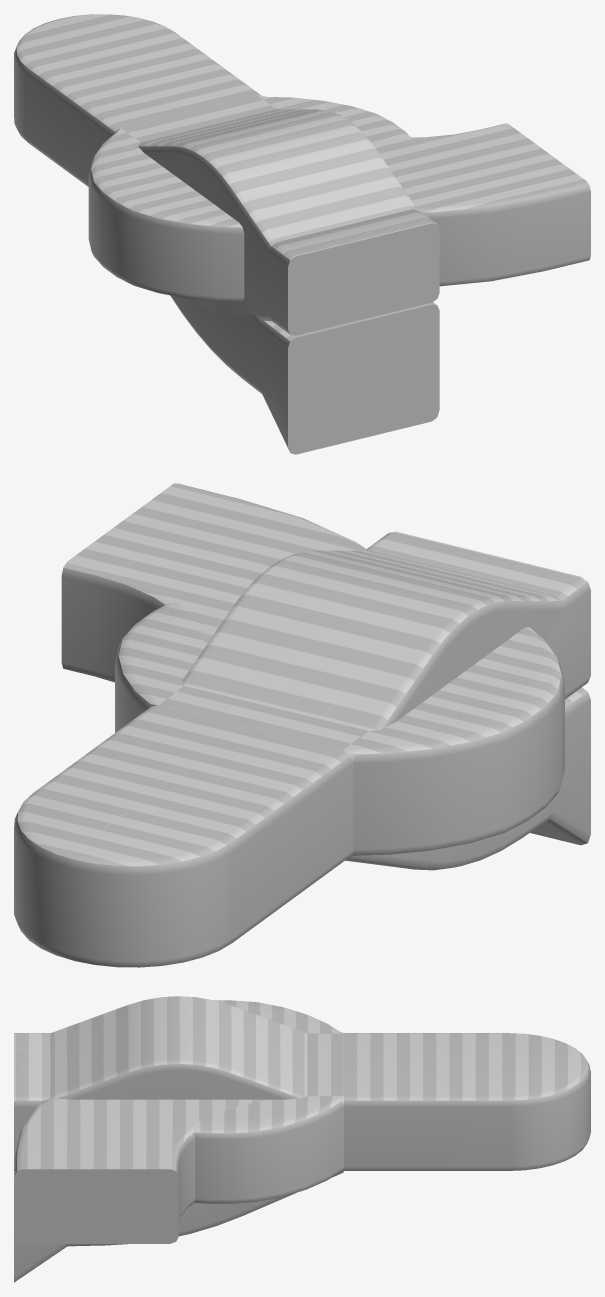
Rendered from Floor_2x2_BothSoft_thick.fbx.
3 renders of one model, top to bottom at view 1: azimuth 30°, elevation 25°; view 2: azimuth 150°, elevation 25°; view 3: azimuth 270°, elevation 25°, orthographic. The views are drawn at different scales.
Visible parts, largest first — view 1: Floor_2x2_BS_T_hill, Floor_2x2_BS_T_rotate, Floor_2x2_BS_T_cap, Floor_2x2_BS_T_circle, Floor_2x2_BS_T_ramp2, Floor_2x2_BS_T_deep1, Floor_2x2_BS_T_deep2, Floor_2x2_BS_T_ramp1; view 2: Floor_2x2_BS_T_cap, Floor_2x2_BS_T_hill, Floor_2x2_BS_T_circle, Floor_2x2_BS_T_rotate, Floor_2x2_BS_T_deep2, Floor_2x2_BS_T_ramp2, Floor_2x2_BS_T_ramp1, Floor_2x2_BS_T_deep1; view 3: Floor_2x2_BS_T_cap, Floor_2x2_BS_T_rotate, Floor_2x2_BS_T_hill, Floor_2x2_BS_T_circle, Floor_2x2_BS_T_deep2, Floor_2x2_BS_T_ramp2, Floor_2x2_BS_T_ramp1.
Boxes of the visible parts, <box> form: Floor_2x2_BS_T_hill: <box>138,109,439,335</box>; Floor_2x2_BS_T_rotate: <box>121,95,590,286</box>; Floor_2x2_BS_T_cap: <box>14,14,261,186</box>; Floor_2x2_BS_T_circle: <box>88,95,410,302</box>; Floor_2x2_BS_T_ramp2: <box>170,295,439,416</box>; Floor_2x2_BS_T_deep1: <box>194,223,439,335</box>; Floor_2x2_BS_T_deep2: <box>121,128,439,335</box>; Floor_2x2_BS_T_ramp1: <box>233,299,439,454</box>; Floor_2x2_BS_T_cap: <box>14,705,353,967</box>; Floor_2x2_BS_T_hill: <box>182,550,590,730</box>; Floor_2x2_BS_T_circle: <box>115,602,564,855</box>; Floor_2x2_BS_T_rotate: <box>61,483,367,749</box>; Floor_2x2_BS_T_deep2: <box>343,531,590,750</box>; Floor_2x2_BS_T_ramp2: <box>345,687,590,870</box>; Floor_2x2_BS_T_ramp1: <box>530,738,590,845</box>; Floor_2x2_BS_T_deep1: <box>544,591,590,699</box>; Floor_2x2_BS_T_cap: <box>343,1033,590,1170</box>; Floor_2x2_BS_T_rotate: <box>14,1033,343,1243</box>; Floor_2x2_BS_T_hill: <box>14,996,307,1166</box>; Floor_2x2_BS_T_circle: <box>191,1000,343,1203</box>; Floor_2x2_BS_T_deep2: <box>14,1033,343,1164</box>; Floor_2x2_BS_T_ramp2: <box>14,1167,343,1246</box>; Floor_2x2_BS_T_ramp1: <box>14,1221,66,1282</box>.
Size of the model in its own units: 494 by 299 by 700.
